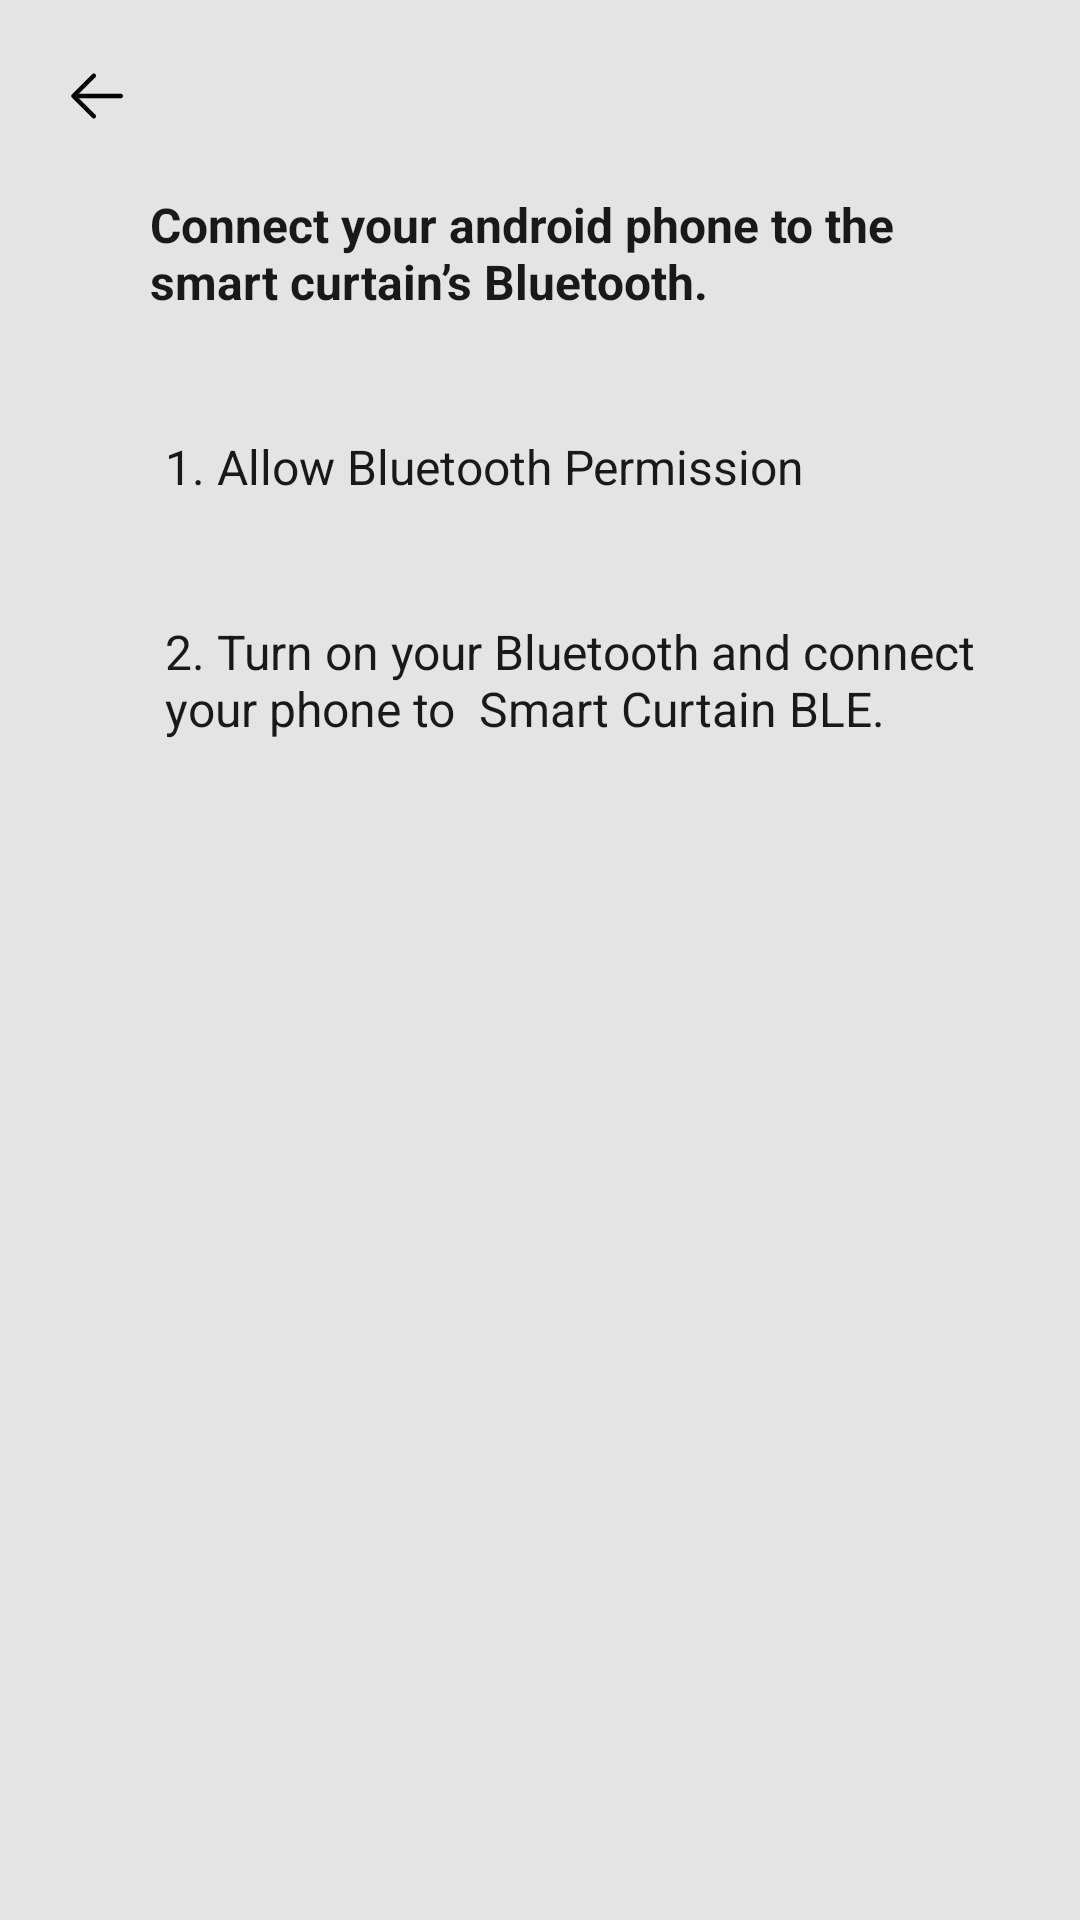

Icons on this 1080 × 1920 Android screen, each with the point to tap as (x=x, y=y):
back: (x=97, y=96)
